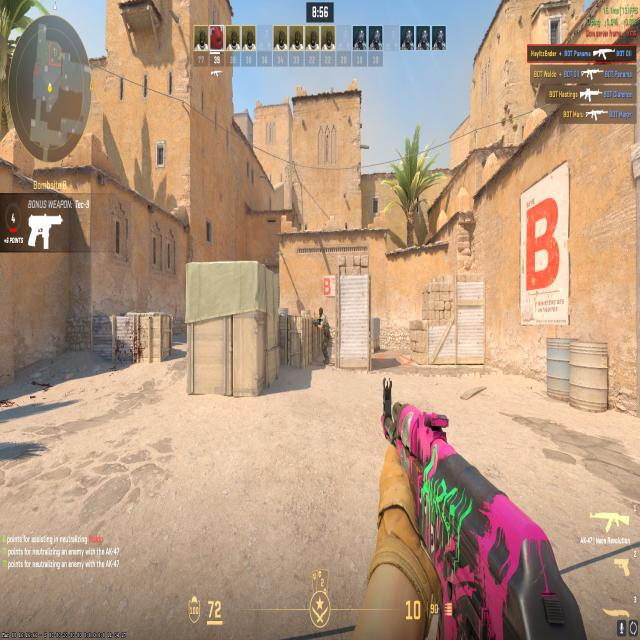t: (316, 306, 331, 364)
